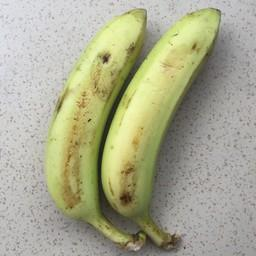Good_banana: (106, 1, 218, 224), (46, 9, 148, 214)
